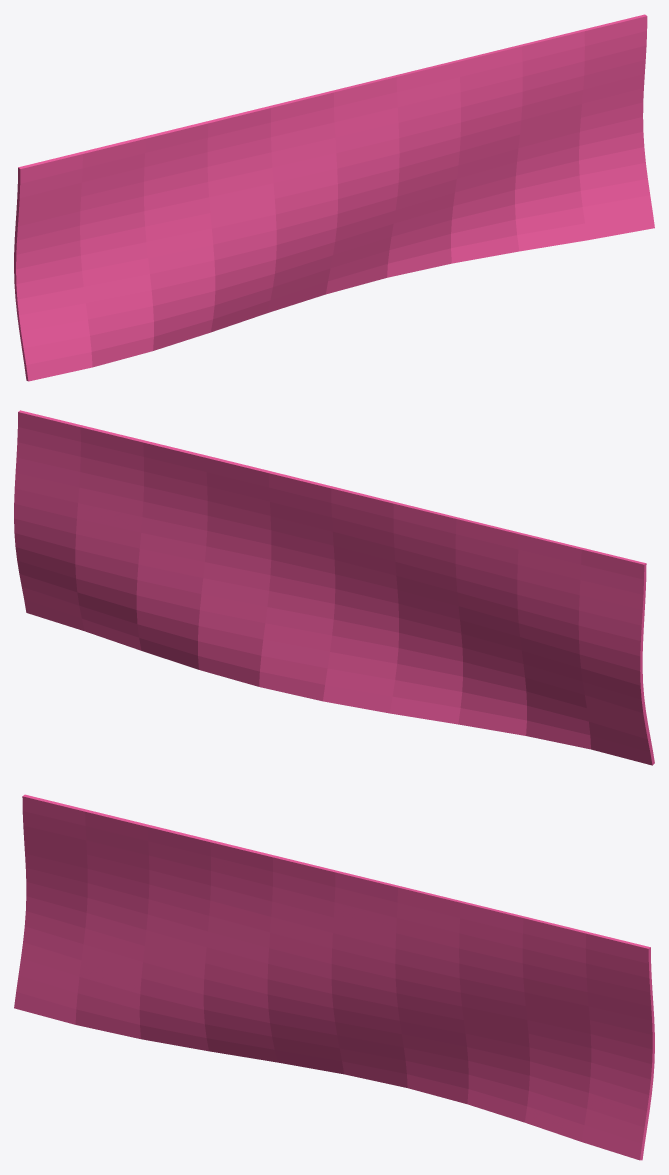
File: RoyalCanopy.fbx
The picture shows the model from 3 angles, top to bottom: view 1: azimuth 30°, elevation 25°; view 2: azimuth 150°, elevation 25°; view 3: azimuth 330°, elevation 25°; orthographic projection.
Parts seen in each view (by area): view 1: RoyalCanopy.001; view 2: RoyalCanopy.001; view 3: RoyalCanopy.001.
Boxes of the visible parts, <box> form: RoyalCanopy.001: <box>14,14,654,381</box>; RoyalCanopy.001: <box>14,410,654,765</box>; RoyalCanopy.001: <box>14,794,654,1160</box>.
Size of the model in its own units: 1902 by 604 by 111.
